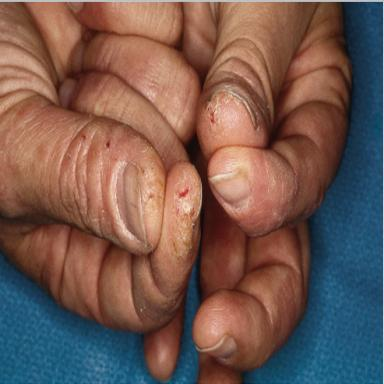eczema: (167, 162, 202, 257), (129, 132, 166, 221), (204, 89, 245, 139)
